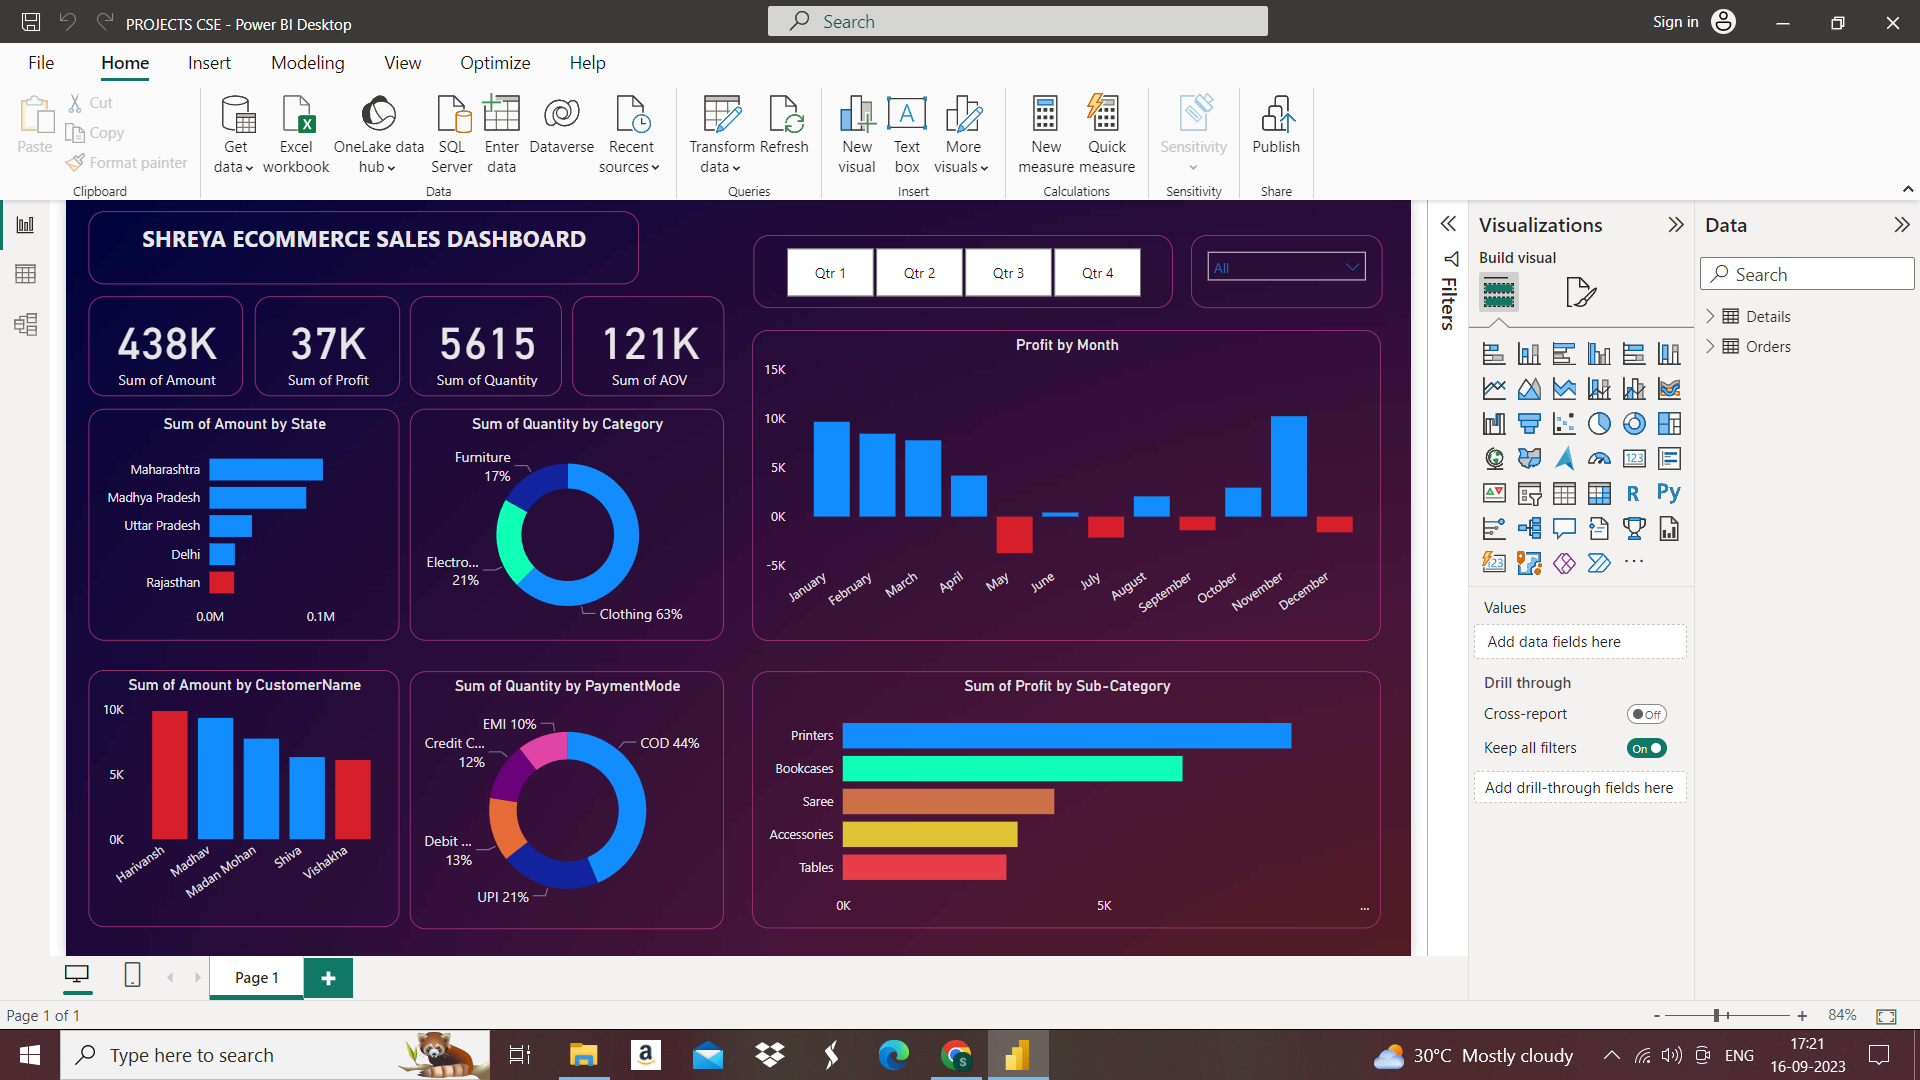

Layout of this report page (visuals, bound fields, positions):
{"tool":"powerbi","page":{"name":"Page 1","canvas":[1280,720],"ordinal":0},"visuals":[{"type":"textbox","box":[21.9,11,523.7,69.9],"z":0},{"type":"columnChart","title":"Profit by Month","fields":{"Category":["Orders.Order Date.Variation.Date Hierarchy.Month"],"Y":["Details.Profit"]},"box":[653.4,123.8,598.6,296.3],"z":1000},{"type":"barChart","fields":{"Category":["Details.Sub-Category"],"Y":["Details.Profit"]},"box":[653.4,448.7,598.6,245.2],"z":2000},{"type":"donutChart","fields":{"Category":["Details.Category"],"Y":["Details.Quantity"]},"box":[327.7,198.8,298.9,220.7],"z":3000},{"type":"donutChart","fields":{"Y":["Details.Quantity"],"Category":["Details.PaymentMode"]},"box":[327.7,448.3,298.9,245.4],"z":4000},{"type":"card","fields":{"Values":["Details.Amount"]},"box":[21.4,91.6,147.6,95.2],"z":5000},{"type":"card","fields":{"Values":["Details.Quantity"]},"box":[327.3,91.6,145.2,95.2],"z":6000},{"type":"card","fields":{"Values":["Details.Profit"]},"box":[179.7,91.6,138,95.2],"z":7000},{"type":"card","fields":{"Values":["Details.AOV"]},"box":[482,91.6,145.2,95.2],"z":8000},{"type":"barChart","fields":{"Category":["Orders.State"],"Y":["Details.Amount"]},"box":[21.9,198.8,296.1,220.7],"z":9000},{"type":"columnChart","fields":{"Category":["Orders.CustomerName"],"Y":["Details.Amount"]},"box":[22,448,296,245],"z":10000},{"type":"slicer","fields":{"Values":["Orders.Order Date.Variation.Date Hierarchy.Quarter"]},"box":[654,32.9,399,69.9],"z":11000},{"type":"slicer","fields":{"Values":["Orders.State"]},"box":[1070.8,32.9,182.3,69.9],"z":12000}]}

Visuals, with their boxes on the page's 1280x720 design canvas (x1, y1, x2, y2). These are canvas units, not pixel positions in the 1920x1080 screenshot, which may show the page scaled, cropped or inside an application window:
textbox: crop(22, 11, 546, 81)
"Profit by Month" columnChart: crop(653, 124, 1252, 420)
barChart - Details.Sub-Category x Details.Profit: crop(653, 449, 1252, 694)
donutChart - Details.Category x Details.Quantity: crop(328, 199, 627, 420)
donutChart - Details.Quantity x Details.PaymentMode: crop(328, 448, 627, 694)
card - Details.Amount: crop(21, 92, 169, 187)
card - Details.Quantity: crop(327, 92, 472, 187)
card - Details.Profit: crop(180, 92, 318, 187)
card - Details.AOV: crop(482, 92, 627, 187)
barChart - Orders.State x Details.Amount: crop(22, 199, 318, 420)
columnChart - Orders.CustomerName x Details.Amount: crop(22, 448, 318, 693)
slicer - Orders.Order Date.Variation.Date Hierarchy.Quarter: crop(654, 33, 1053, 103)
slicer - Orders.State: crop(1071, 33, 1253, 103)
